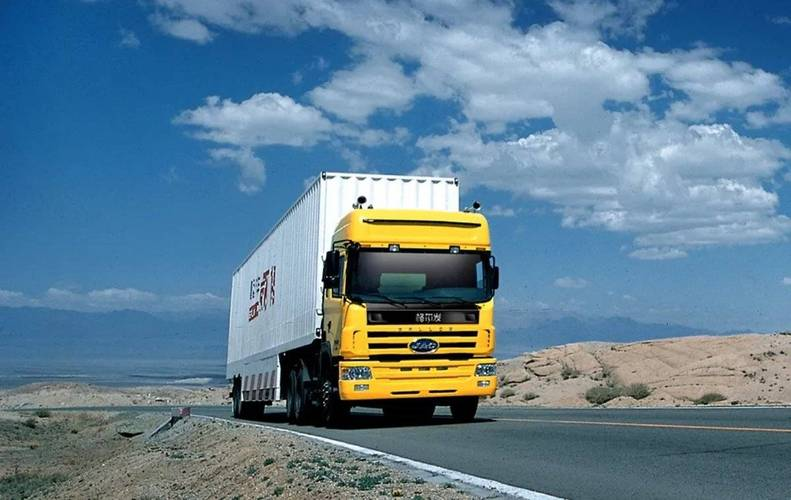卡车: (217, 173, 516, 431)
